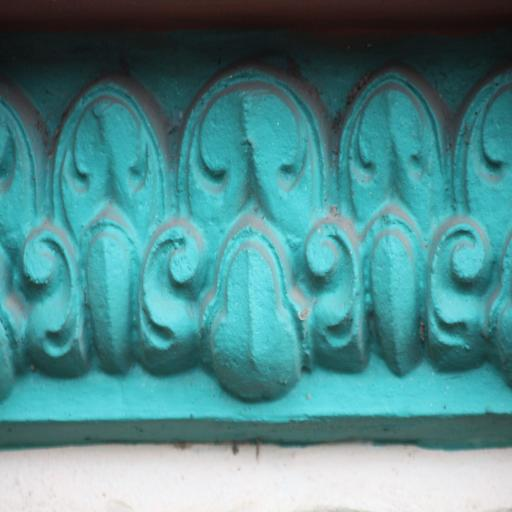la: (176, 70, 359, 386), (336, 64, 480, 368), (41, 86, 187, 380), (0, 88, 54, 397), (463, 60, 512, 380)
